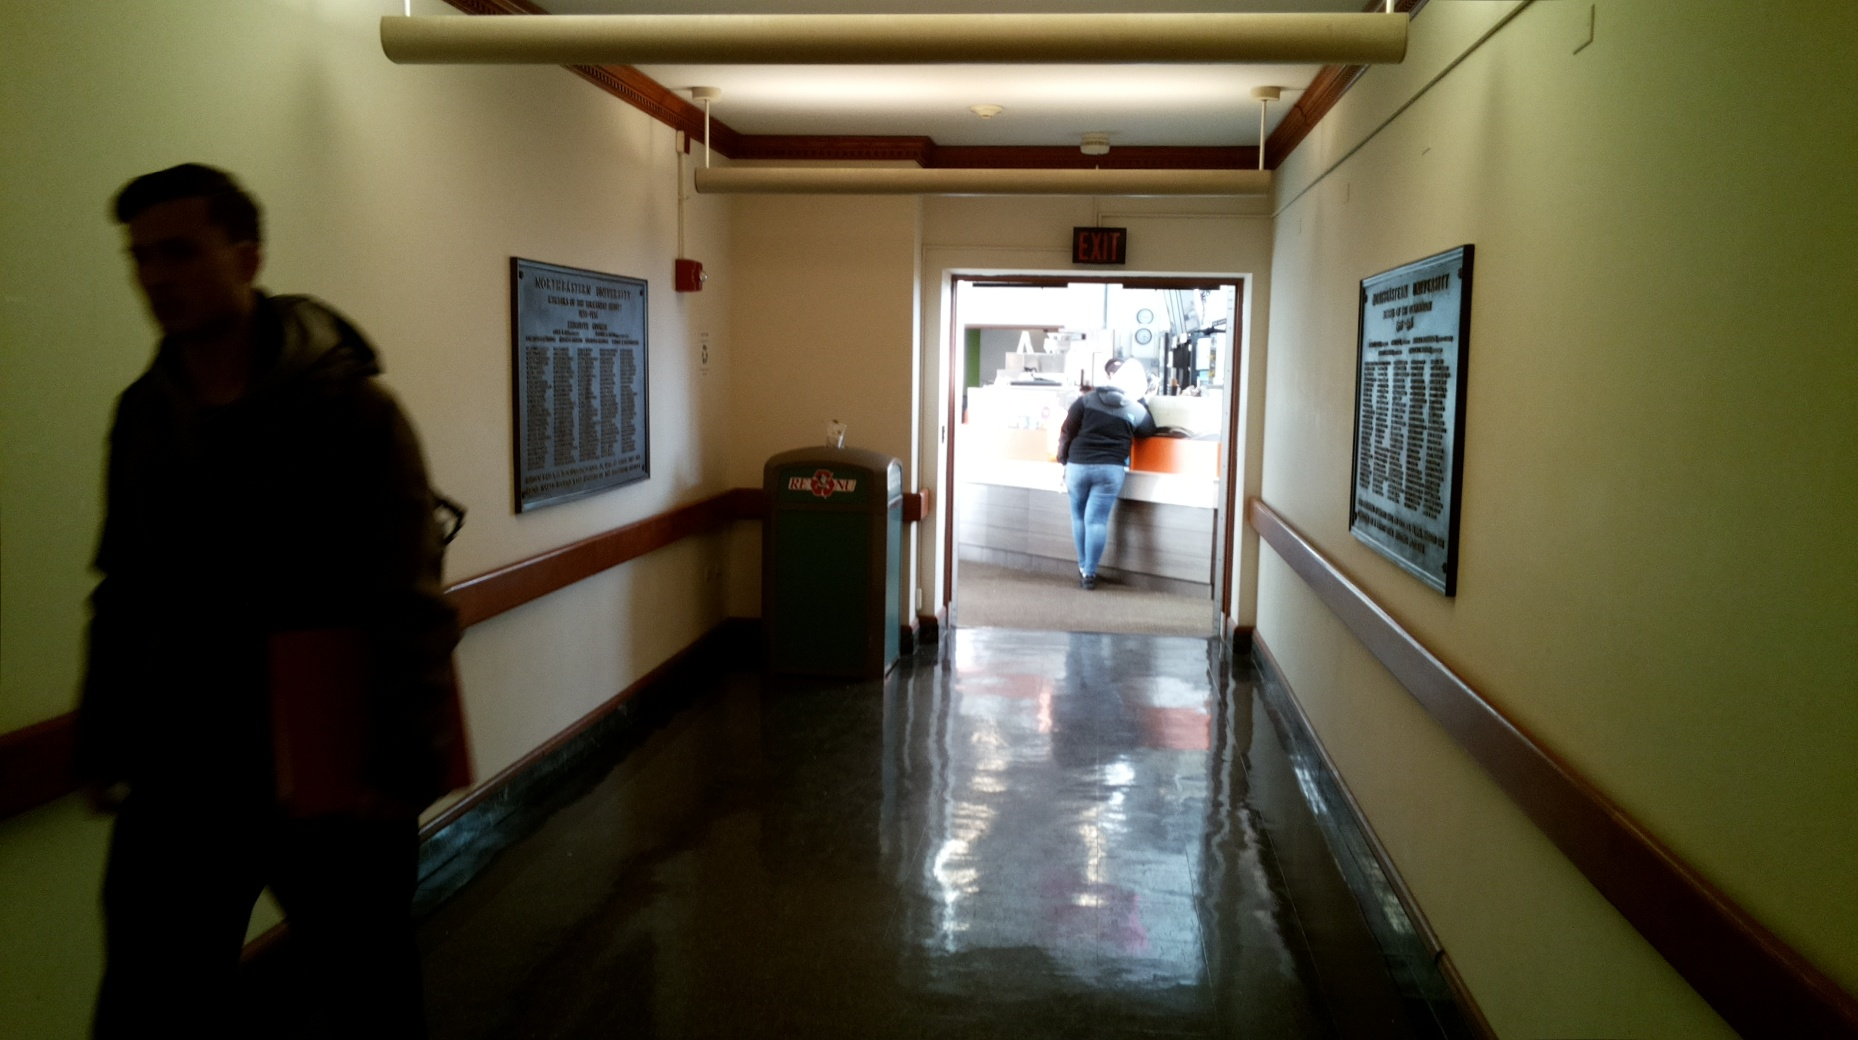exit sign: (1069, 225, 1129, 267)
